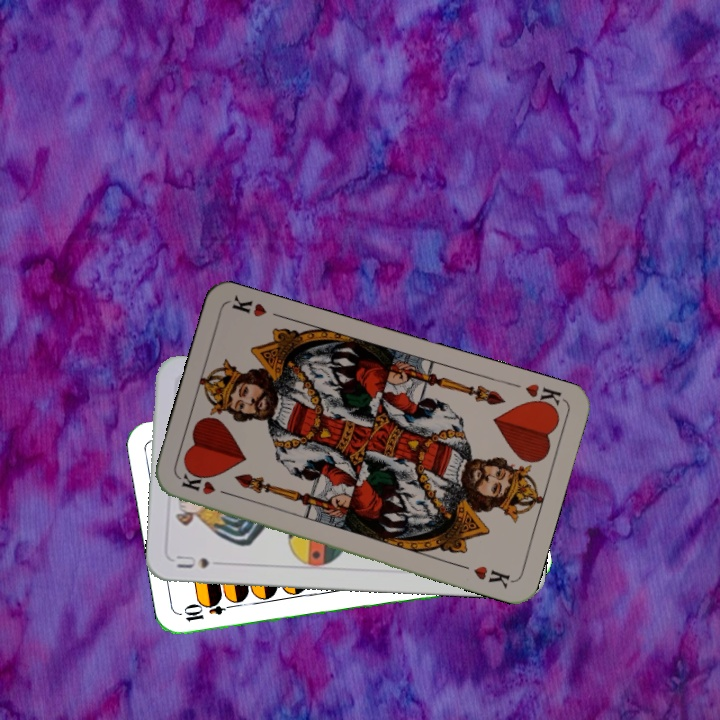E10: (180, 598, 239, 624)
HK: (177, 469, 235, 499), (521, 379, 564, 415)
SU: (172, 551, 211, 571)
